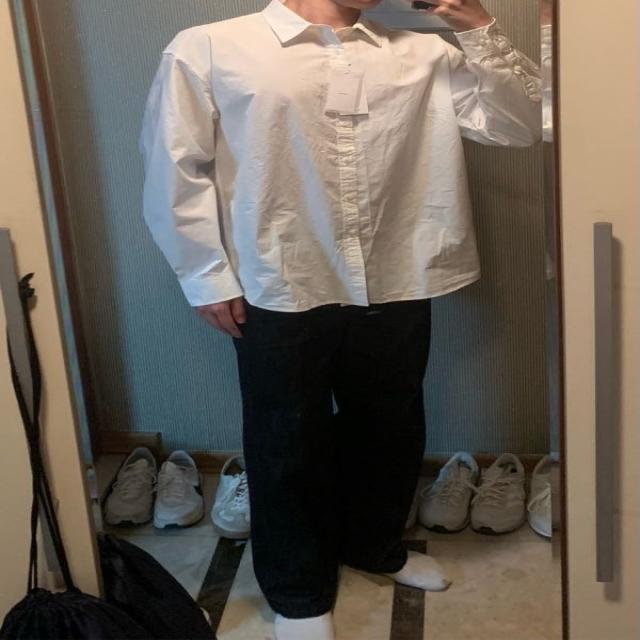shirt: (160, 2, 550, 314)
trainingpants: (230, 284, 431, 617)
